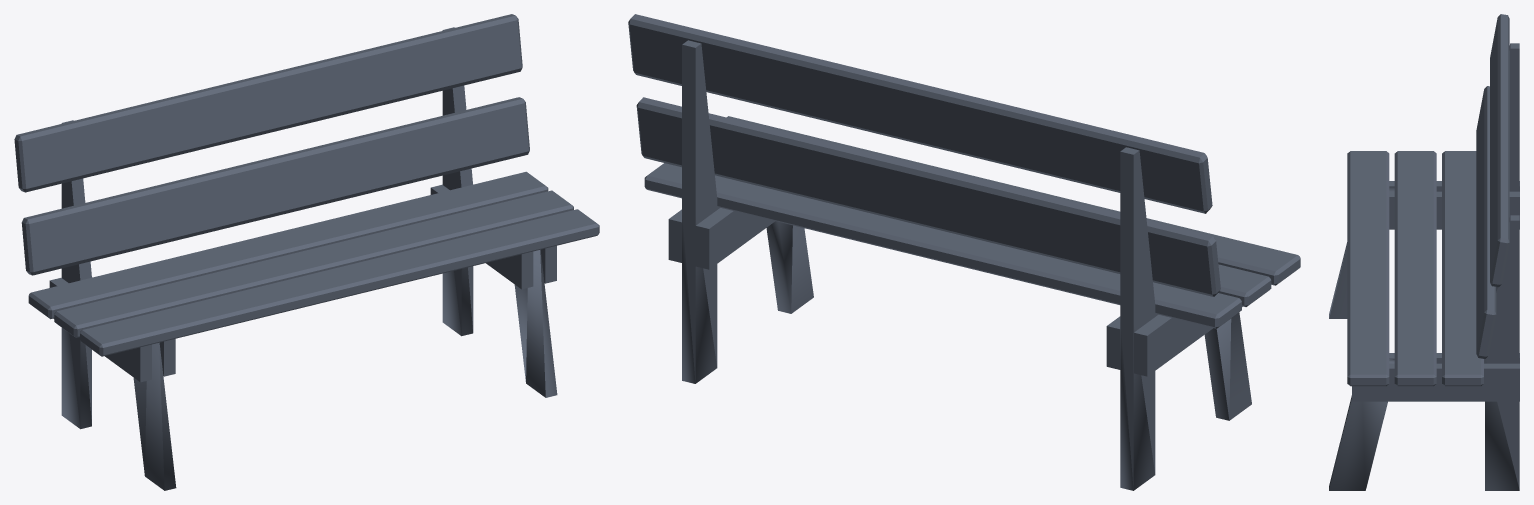
File: banco_plaza.glb
3 views of the same model, side by side, from view 1: azimuth 30°, elevation 25°; view 2: azimuth 150°, elevation 25°; view 3: azimuth 270°, elevation 25° (orthographic). The views are drawn at different scales.
Parts seen in each view (by area): view 1: banco_plaza; view 2: banco_plaza; view 3: banco_plaza.
Part boxes in pixels (x1,y1,x2,y2): banco_plaza: (14,14,599,490); banco_plaza: (628,14,1300,490); banco_plaza: (1329,14,1519,490).
Size of the model in its own units: 140 by 80 by 50.
